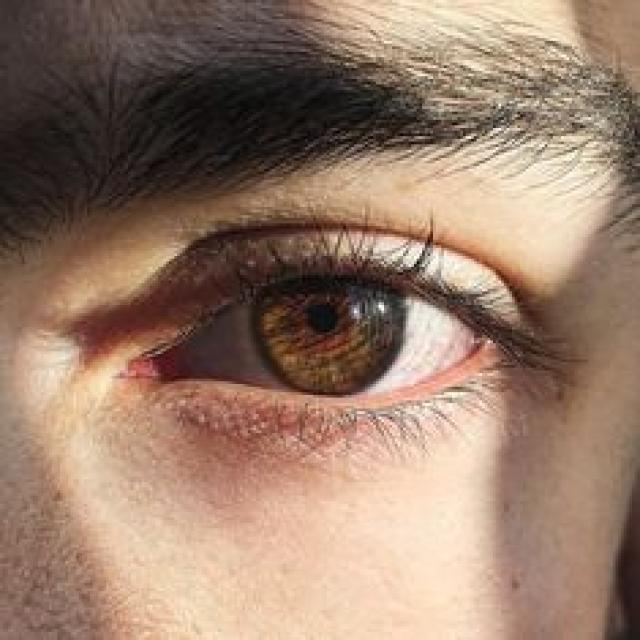Normal: (94, 196, 564, 478)
